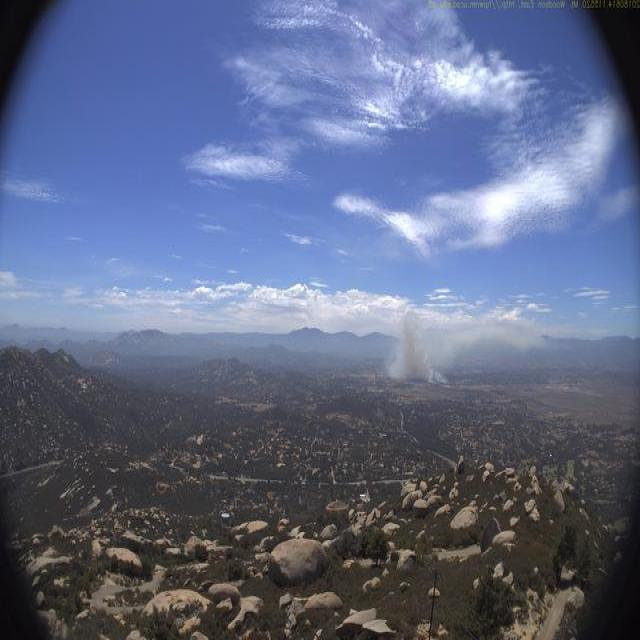smoke: (384, 303, 549, 387)
